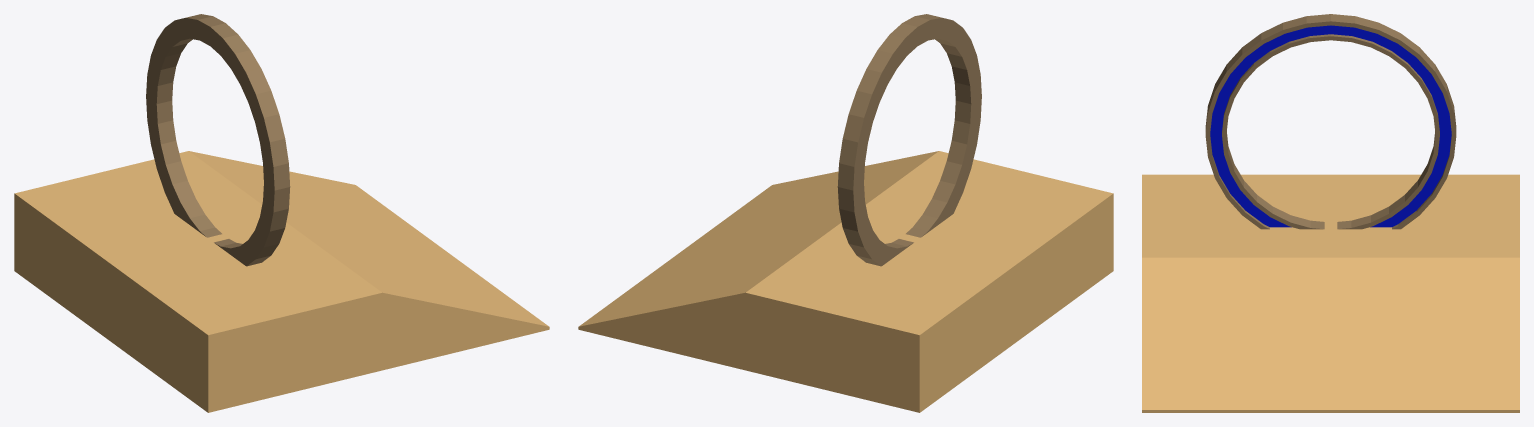
File: gate.fbx
3 views of the same model, side by side, from view 1: azimuth 30°, elevation 25°; view 2: azimuth 150°, elevation 25°; view 3: azimuth 270°, elevation 25° (orthographic). The views are drawn at different scales.
Visible parts, largest first — view 1: Cube; view 2: Cube; view 3: Cube.
Boxes of the visible parts, box(x1,y1,x2,y2) form: Cube: box(14, 14, 549, 412); Cube: box(578, 14, 1113, 412); Cube: box(1142, 14, 1519, 412).
Size of the model in its own units: 919 by 749 by 903.
